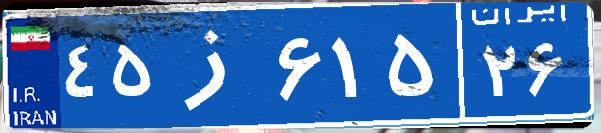1: (330, 28, 385, 110)
2: (475, 38, 525, 113)
4: (57, 26, 110, 107)
5: (385, 28, 445, 110), (110, 28, 158, 105)
6: (273, 28, 330, 110), (525, 38, 570, 115)
ز: (158, 15, 273, 115)
